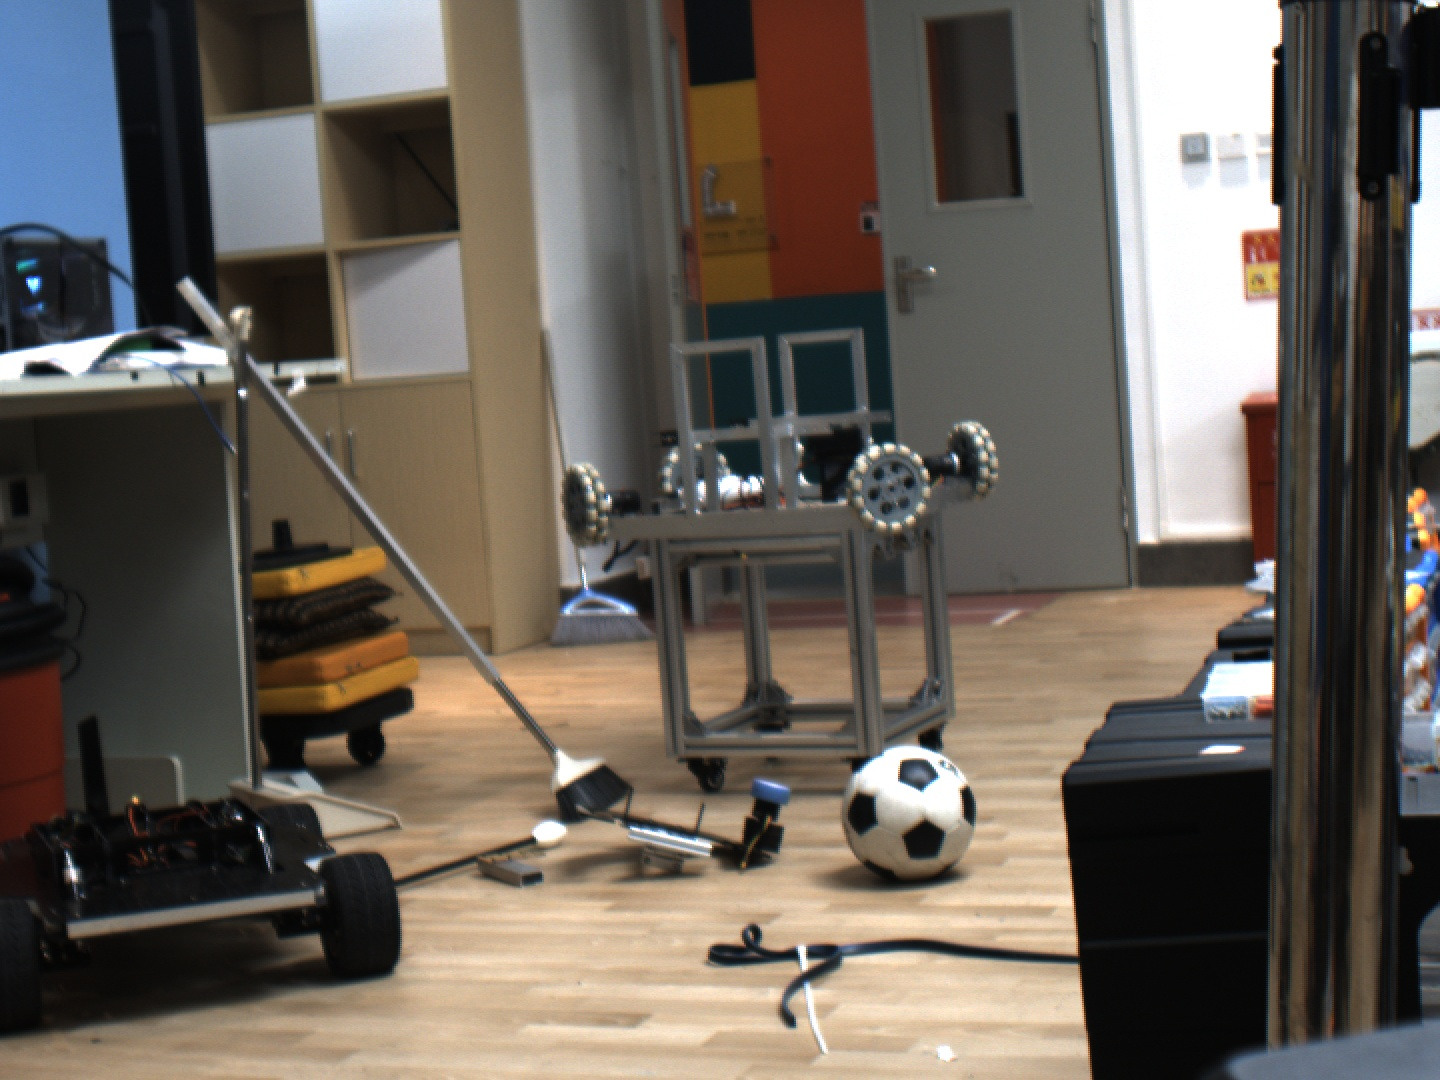ball: (819, 743, 996, 889)
